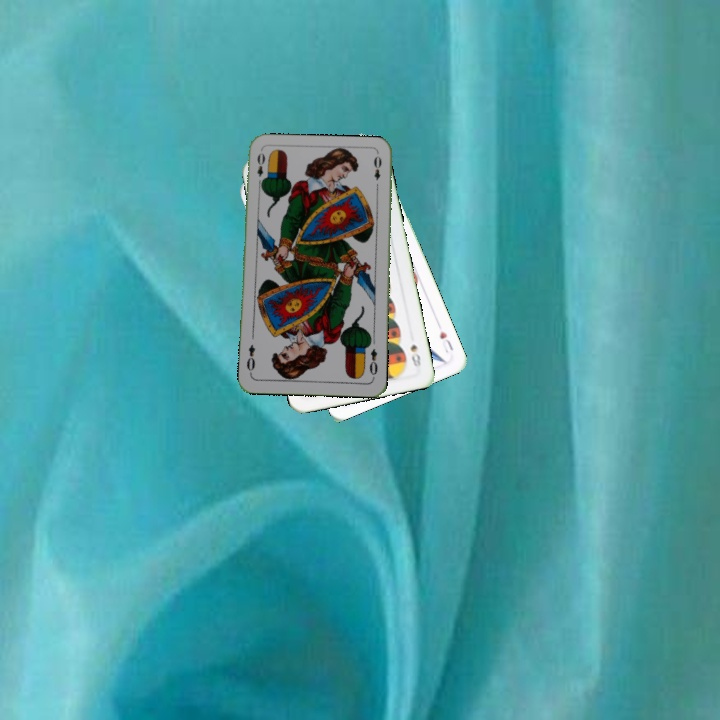EO: (253, 149, 267, 189), (365, 345, 380, 381)
HU: (436, 327, 456, 356)
S8: (406, 340, 423, 369)
